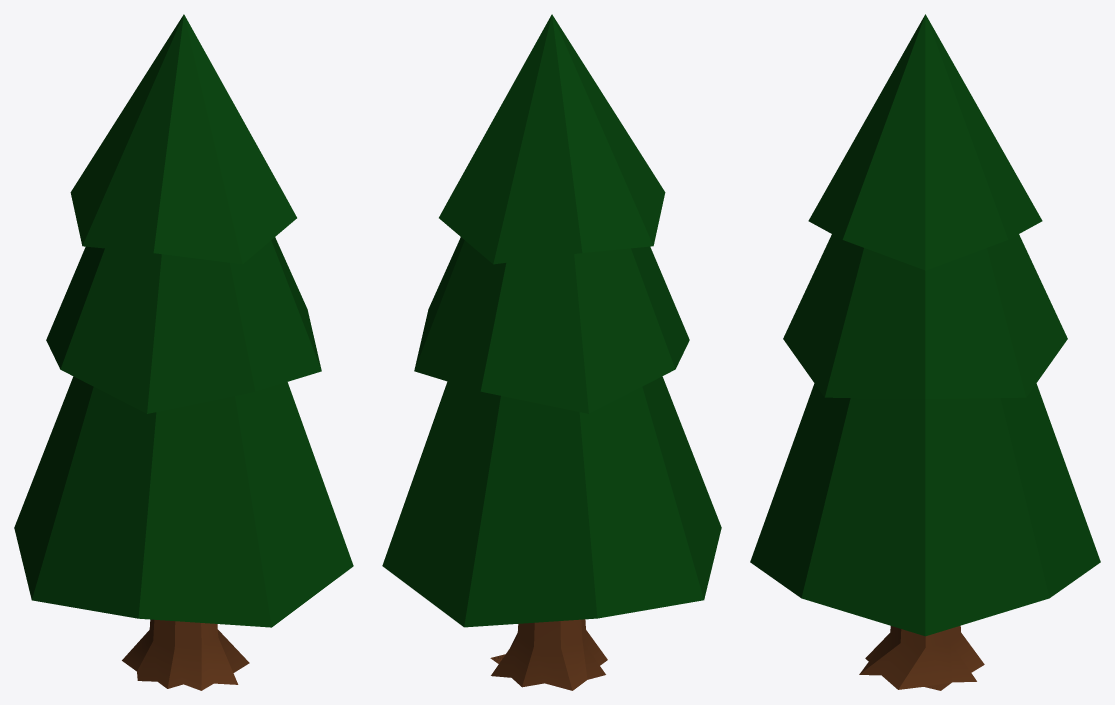
File: pine.glb
3 renders of one model, left to right at view 1: azimuth 30°, elevation 25°; view 2: azimuth 150°, elevation 25°; view 3: azimuth 270°, elevation 25°, orthographic.
Parts seen in each view (by area): view 1: pine; view 2: pine; view 3: pine.
Boxes of the visible parts, <box> form: pine: <box>14,14,353,690</box>; pine: <box>382,14,721,690</box>; pine: <box>750,14,1100,690</box>.
Size of the model in its own units: 6 by 12.27 by 6.
